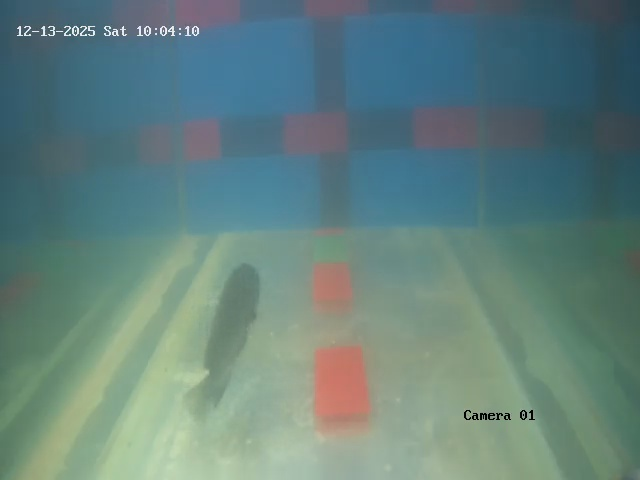fish: (204, 262, 263, 374)
